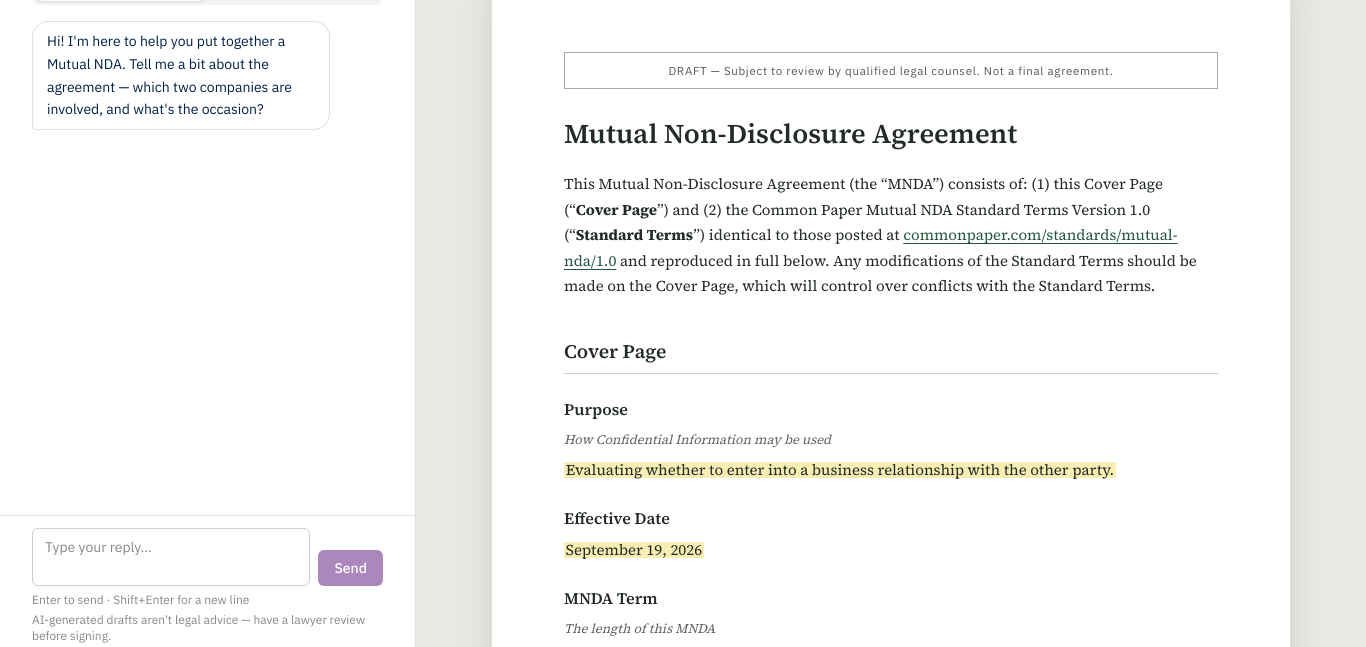
Test: Home page › sends a chat message and applies the returned field updates to the preview
The width and height of the screenshot is (1366, 647).
Type "Acme, governed by Delaware" into the text box named "Message the drafting assistant" at (171, 557), box x1=32 y1=528 x2=310 y2=586
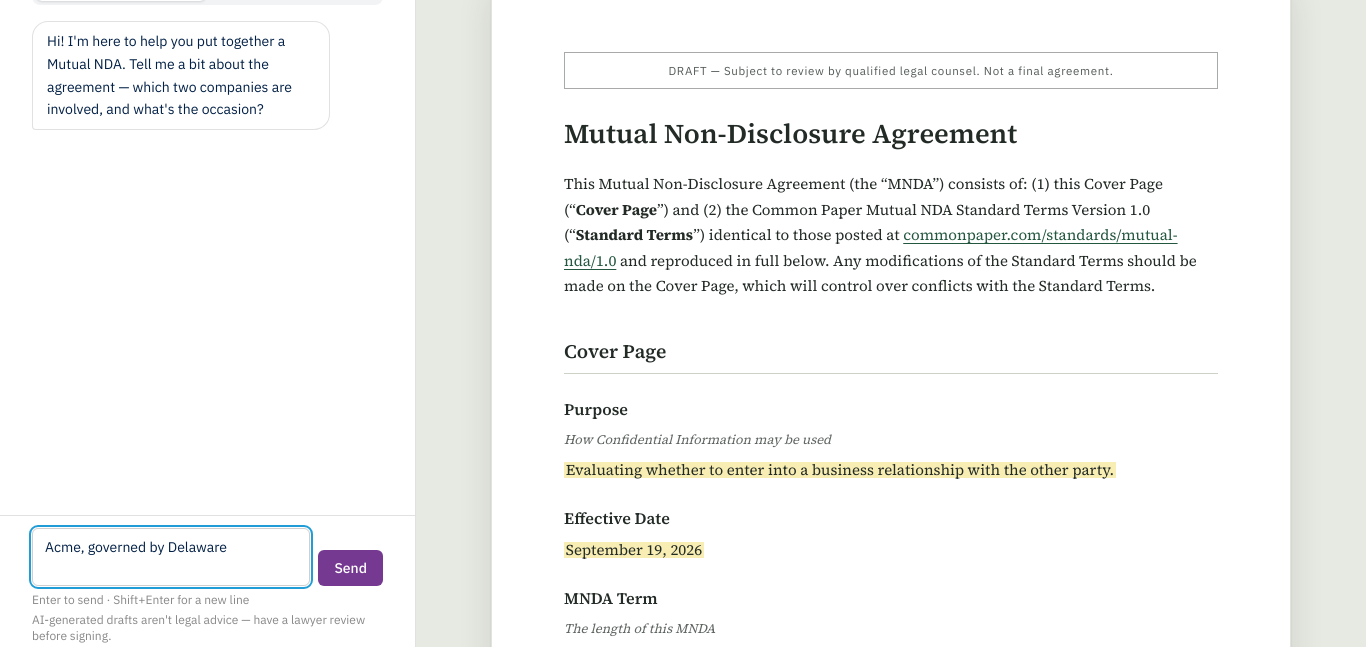
Click the button "Send" at (351, 568), box x1=318 y1=550 x2=383 y2=586
(page scrolled)
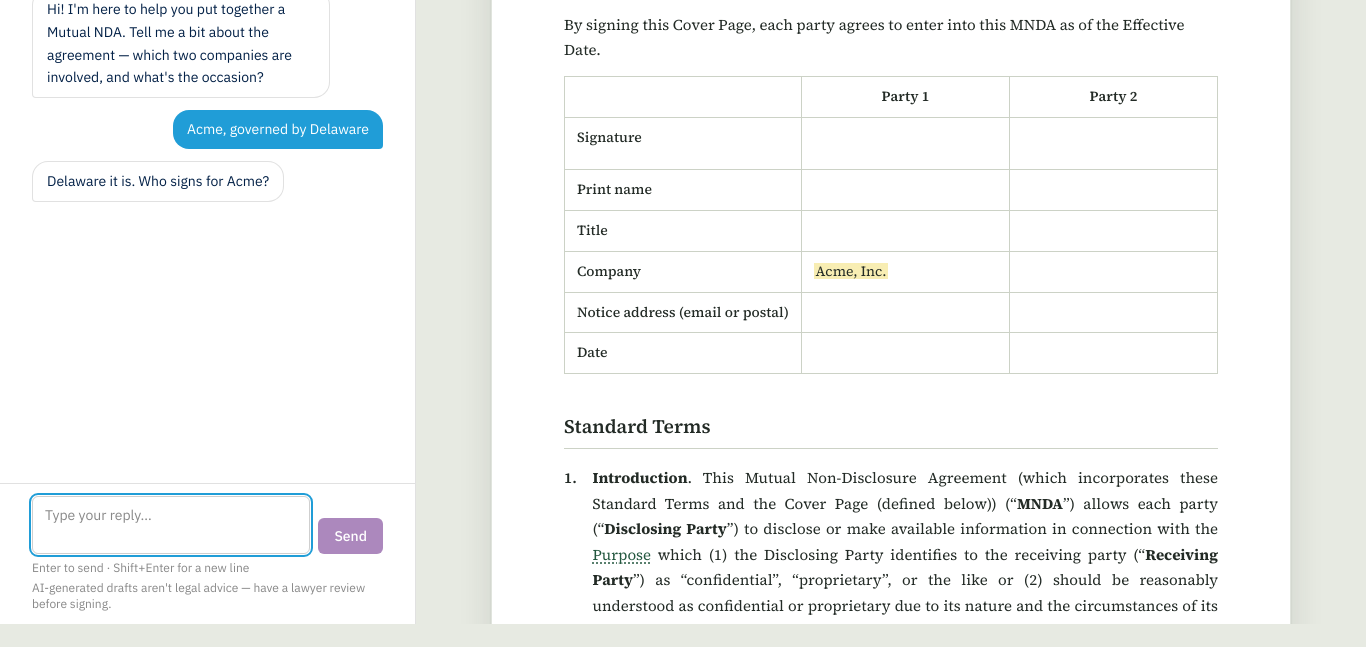
Expected: the text "Delaware it is. Who signs for Acme?" is shown, x1=32 y1=161 x2=284 y2=202
Expected: the text "Acme, Inc." is shown, x1=814 y1=261 x2=888 y2=281
